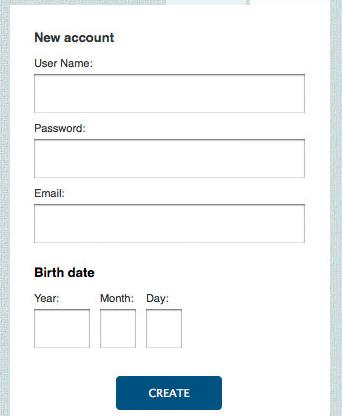button: (115, 375, 222, 411)
field: (32, 72, 306, 114), (31, 203, 306, 244), (32, 138, 306, 179), (31, 308, 91, 349), (143, 308, 183, 349), (98, 307, 137, 349)
field_with_label: (29, 123, 308, 181), (29, 58, 307, 116), (29, 189, 308, 246), (29, 293, 92, 351), (97, 294, 139, 351), (142, 294, 184, 351)
